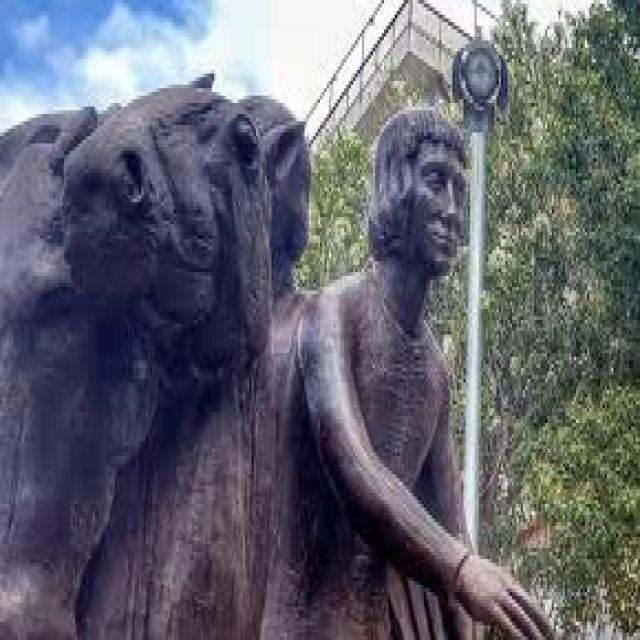Aretousa: (1, 72, 559, 639)
